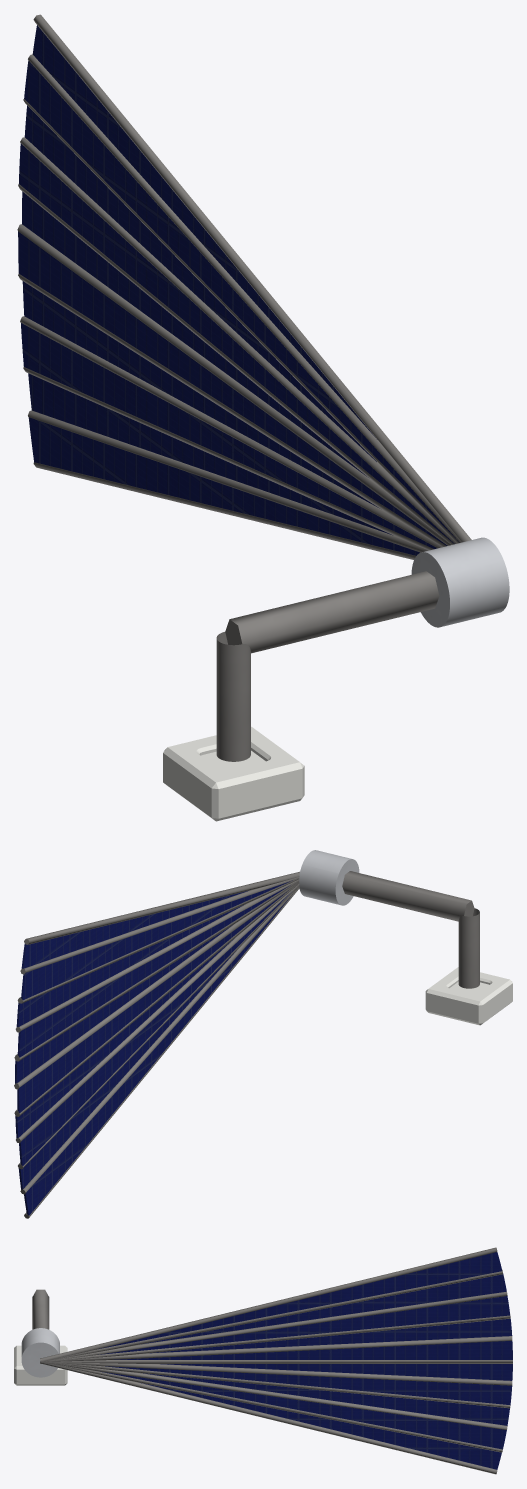
The model's file is ax_power_03_fan_array_m.glb.
3 views of the same model, one above another, from view 1: azimuth 30°, elevation 25°; view 2: azimuth 150°, elevation 25°; view 3: azimuth 270°, elevation 25° (orthographic). The views are drawn at different scales.
Visible parts, largest first — view 1: spars, yoke, petal_9, petal_3, petal_7, petal_1, petal_5, mount_block, petal_2, petal_4, petal_8, petal_10 (+2 smaller); view 2: spars, yoke, petal_1, petal_9, petal_3, petal_7, petal_5, mount_block, petal_10, petal_8, petal_2, petal_4 (+2 smaller); view 3: spars, petal_8, petal_10, petal_2, petal_4, petal_6, petal_9, petal_1, petal_3, petal_7, petal_5, hub (+2 smaller).
Boxes of the visible parts, x1,y1,x2,y2 form: spars: (17,14,471,559); yoke: (216,571,439,761); petal_9: (24,60,459,542); petal_3: (21,323,437,548); petal_7: (19,143,454,543); petal_1: (28,417,419,555); petal_5: (18,231,447,545); mount_block: (163,726,304,821); petal_2: (28,373,392,535); petal_4: (22,281,379,508); petal_8: (24,105,376,461); petal_10: (32,25,377,439); spars: (14,871,299,1218); yoke: (342,871,479,988); petal_1: (24,894,292,1215); petal_9: (21,880,292,1000); petal_3: (19,892,291,1166); petal_7: (17,885,290,1057); petal_5: (17,890,288,1113); mount_block: (425,967,512,1025); petal_10: (21,890,248,968); petal_8: (16,905,243,1026); petal_2: (18,951,235,1189); petal_4: (15,938,234,1138); spars: (40,1247,512,1474); petal_8: (98,1296,510,1354); petal_10: (98,1252,502,1349); petal_2: (100,1371,506,1449); petal_4: (105,1366,512,1405); petal_6: (113,1341,512,1359); petal_9: (141,1273,506,1344); petal_1: (141,1383,501,1469); petal_3: (143,1373,509,1425); petal_7: (150,1318,512,1353); petal_5: (160,1364,512,1380); hub: (21,1328,59,1377).
Bounding box in the file's own units: 0.837 × 1.16 × 2.33.
Materials: 4 (3 with a texture image).
